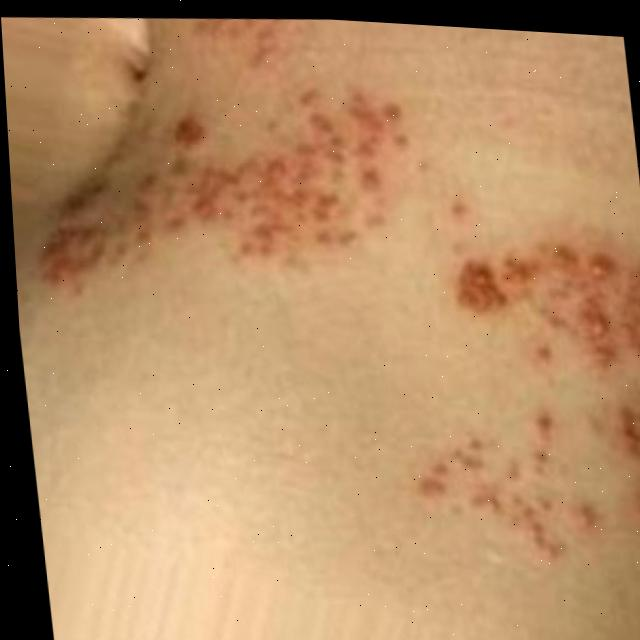Shingles: (33, 75, 387, 309), (392, 248, 640, 555)
